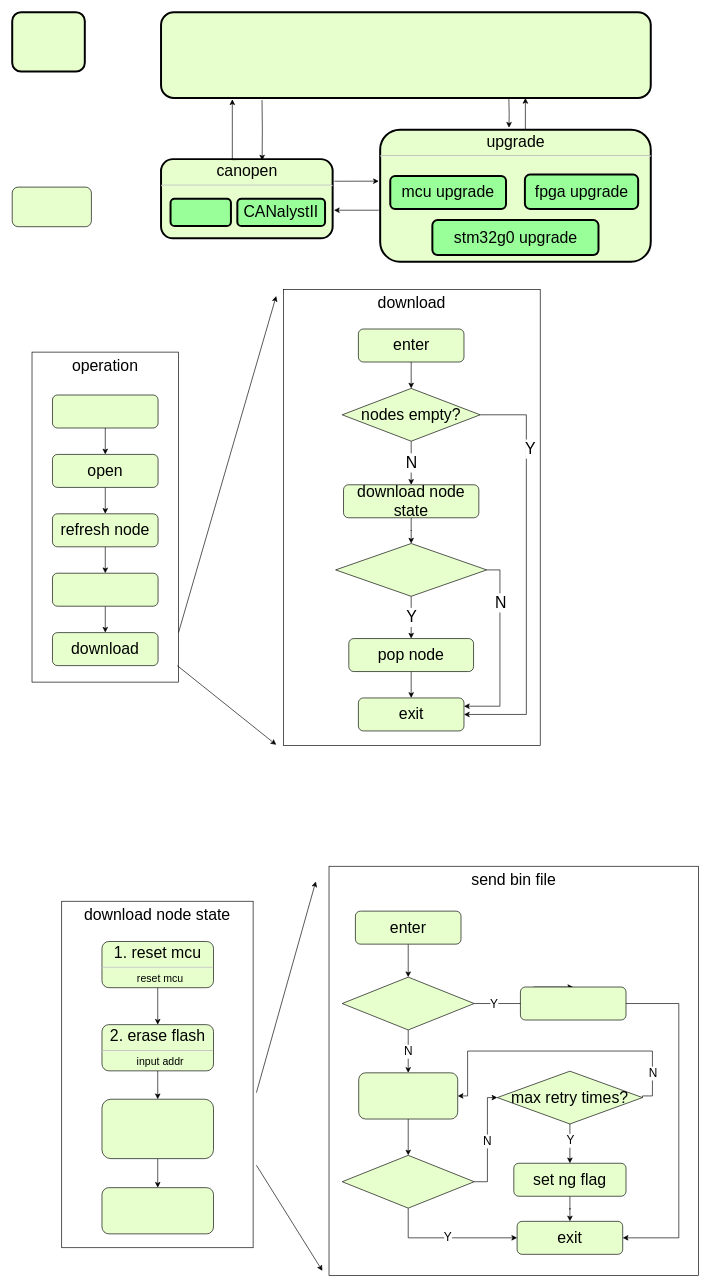
The diagram is 710 pixels wide and 1288 high, and some of its shapes have lost their labels. Each missing label, with the centre of its shape:
3. send bin file search bin file write into flash: (157,1129)
4. reboot reboot mcu: (157,1210)
choose a port: (105,411)
download ok?: (411,569)
EOF?: (408,1003)
Process 3 List Possible System Solutions: (48,41)
select nodes: (105,589)
send data write into flash: (408,1095)
set ok flag: (573,1003)
uart: (200,212)
UI: (405,55)
upgrade ok?: (408,1181)
